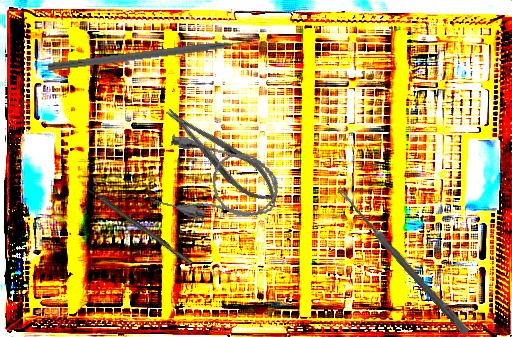Cannula: (147, 132, 286, 235)
Chopper: (47, 36, 264, 83)
Hook Surgical: (85, 185, 193, 266)
Needle Holder: (157, 96, 287, 214)
Surgical Spoon: (334, 185, 471, 336)
